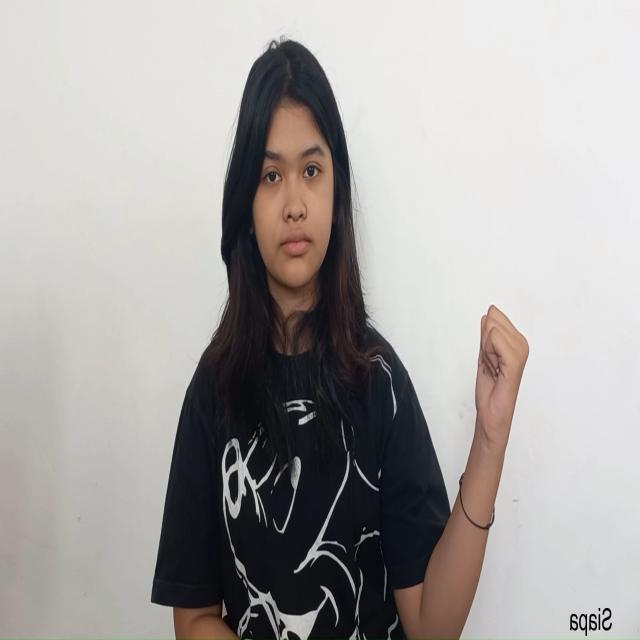Siapa -BISINDO-: (473, 301, 531, 459)
